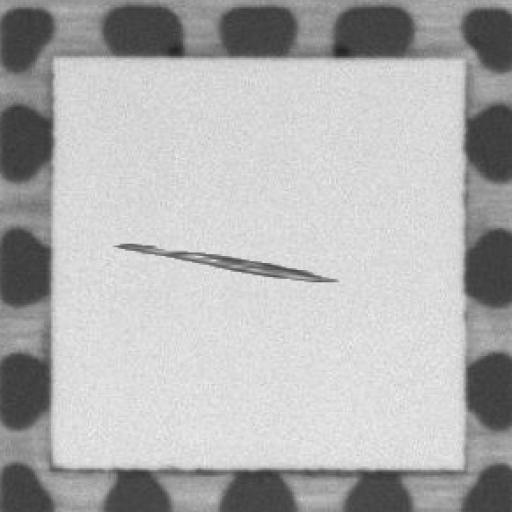DIE_INK: (105, 238, 345, 282)
